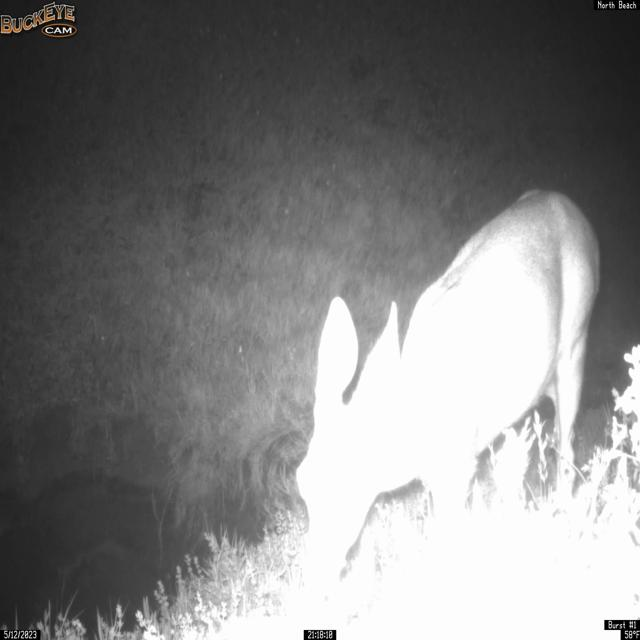deer: (295, 187, 602, 608)
